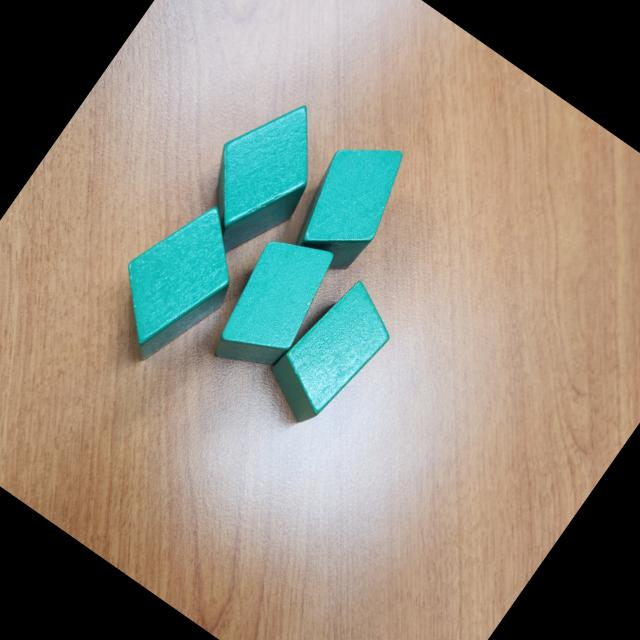green: (171, 78, 350, 274), (90, 184, 265, 375), (253, 266, 408, 439), (196, 218, 350, 390), (276, 120, 424, 284)
